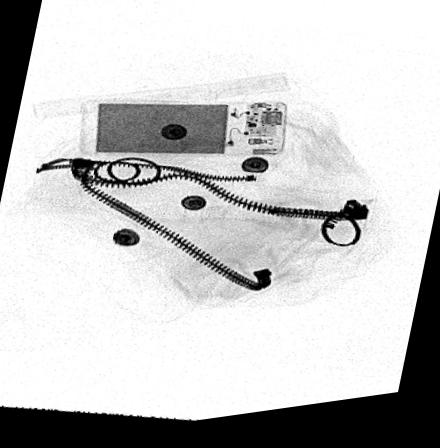Powerbank: (76, 103, 286, 164)
